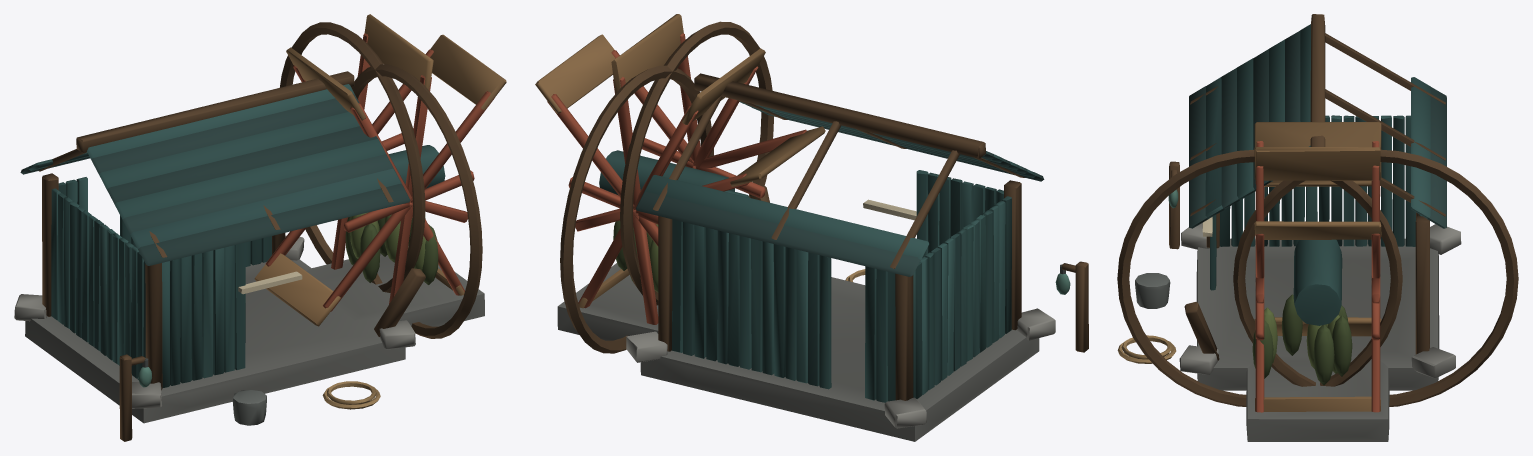
The model's file is sluice_shed_c_lod1.glb.
The picture shows the model from 3 angles, left to right: view 1: azimuth 30°, elevation 25°; view 2: azimuth 150°, elevation 25°; view 3: azimuth 270°, elevation 25°; orthographic projection. The views are drawn at different scales.
Visible parts, largest first — view 1: Surface.001; view 2: Surface.001; view 3: Surface.001.
Boxes of the visible parts, x1=… form: Surface.001: x1=14, y1=14, x2=506, y2=441; Surface.001: x1=535, y1=14, x2=1088, y2=441; Surface.001: x1=1117, y1=14, x2=1518, y2=441.
Size of the model in its own units: 9.03 by 5.65 by 7.28.
